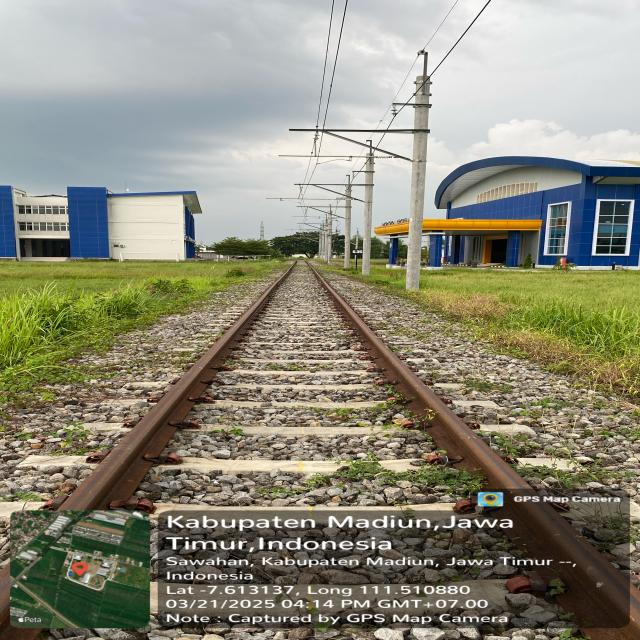rail-detection: (306, 261, 637, 627), (60, 259, 297, 510)
